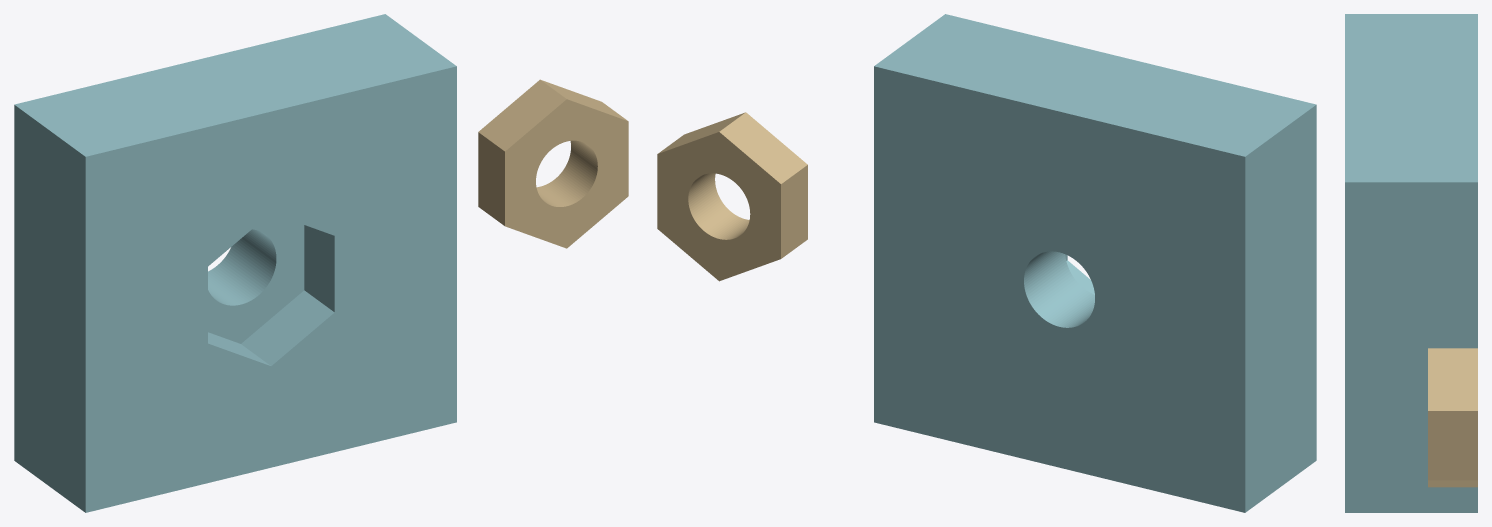
File: assembly.glb
3 renders of one model, left to right at view 1: azimuth 30°, elevation 25°; view 2: azimuth 150°, elevation 25°; view 3: azimuth 270°, elevation 25°, orthographic. The views are drawn at different scales.
Parts seen in each view (by area): view 1: pocket_block, nut_envelope_gauge; view 2: pocket_block, nut_envelope_gauge; view 3: pocket_block, nut_envelope_gauge.
Part boxes in pixels (x1,y1,x2,y2): pocket_block: (14, 14, 456, 512); nut_envelope_gauge: (478, 79, 628, 248); pocket_block: (874, 14, 1316, 512); nut_envelope_gauge: (657, 112, 807, 281); pocket_block: (1345, 14, 1477, 512); nut_envelope_gauge: (1428, 348, 1477, 487).
Size of the model in its own units: 0.038 by 0.022 by 0.008.
